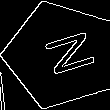N_W: (29, 28, 92, 82)
